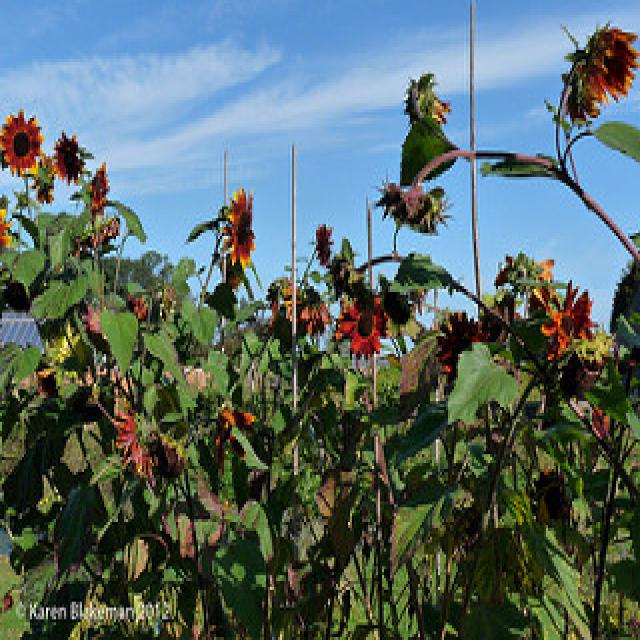sunflower: (566, 21, 640, 132), (222, 192, 274, 272), (6, 112, 48, 179)
